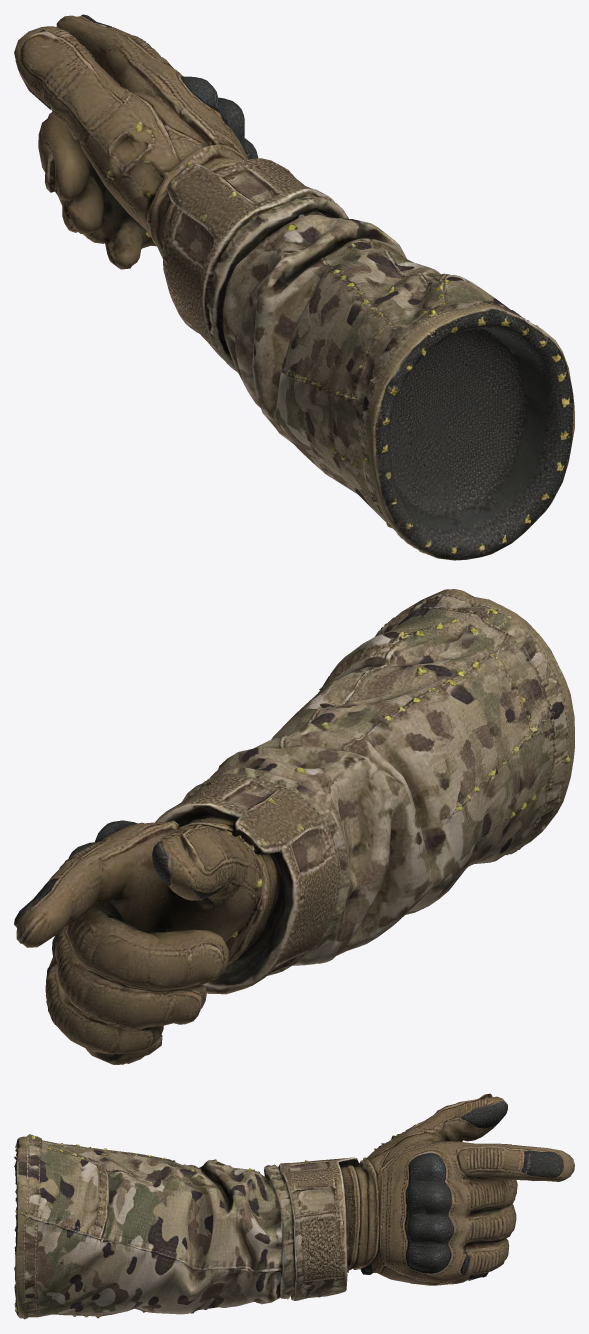
Rendered from arm_r.glb.
3 views of the same model, one above another, from view 1: azimuth 30°, elevation 25°; view 2: azimuth 150°, elevation 25°; view 3: azimuth 270°, elevation 25° (orthographic). The views are drawn at different scales.
Parts seen in each view (by area): view 1: tripo_node_de83052f-87ce-4183-a984-d1211d2c34e2; view 2: tripo_node_de83052f-87ce-4183-a984-d1211d2c34e2; view 3: tripo_node_de83052f-87ce-4183-a984-d1211d2c34e2.
Part boxes in pixels (bbox=[...]): tripo_node_de83052f-87ce-4183-a984-d1211d2c34e2: bbox=[14, 14, 574, 560]; tripo_node_de83052f-87ce-4183-a984-d1211d2c34e2: bbox=[14, 589, 574, 1064]; tripo_node_de83052f-87ce-4183-a984-d1211d2c34e2: bbox=[14, 1093, 574, 1319].
Bounding box in the file's own units: 0.2753 × 0.3676 × 0.9774.
1 material, 1 textured.
